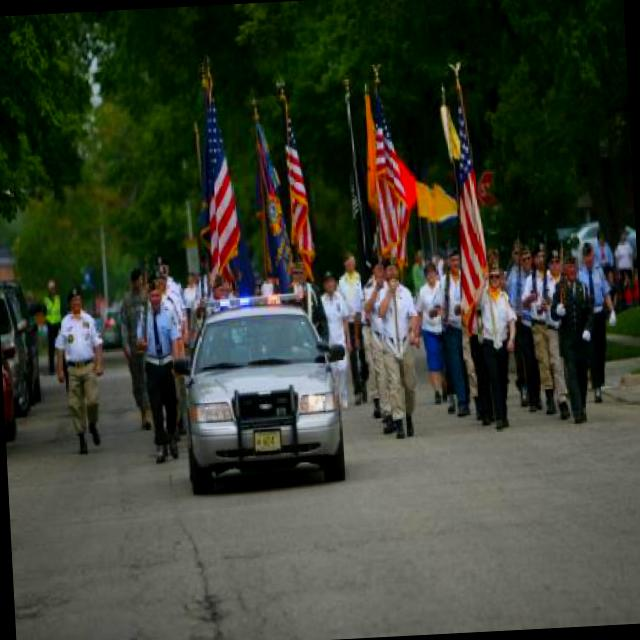Person: (39, 223, 640, 471)
